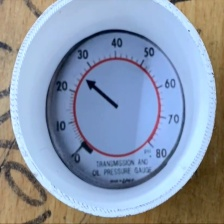gauge: (47, 29, 185, 190)
